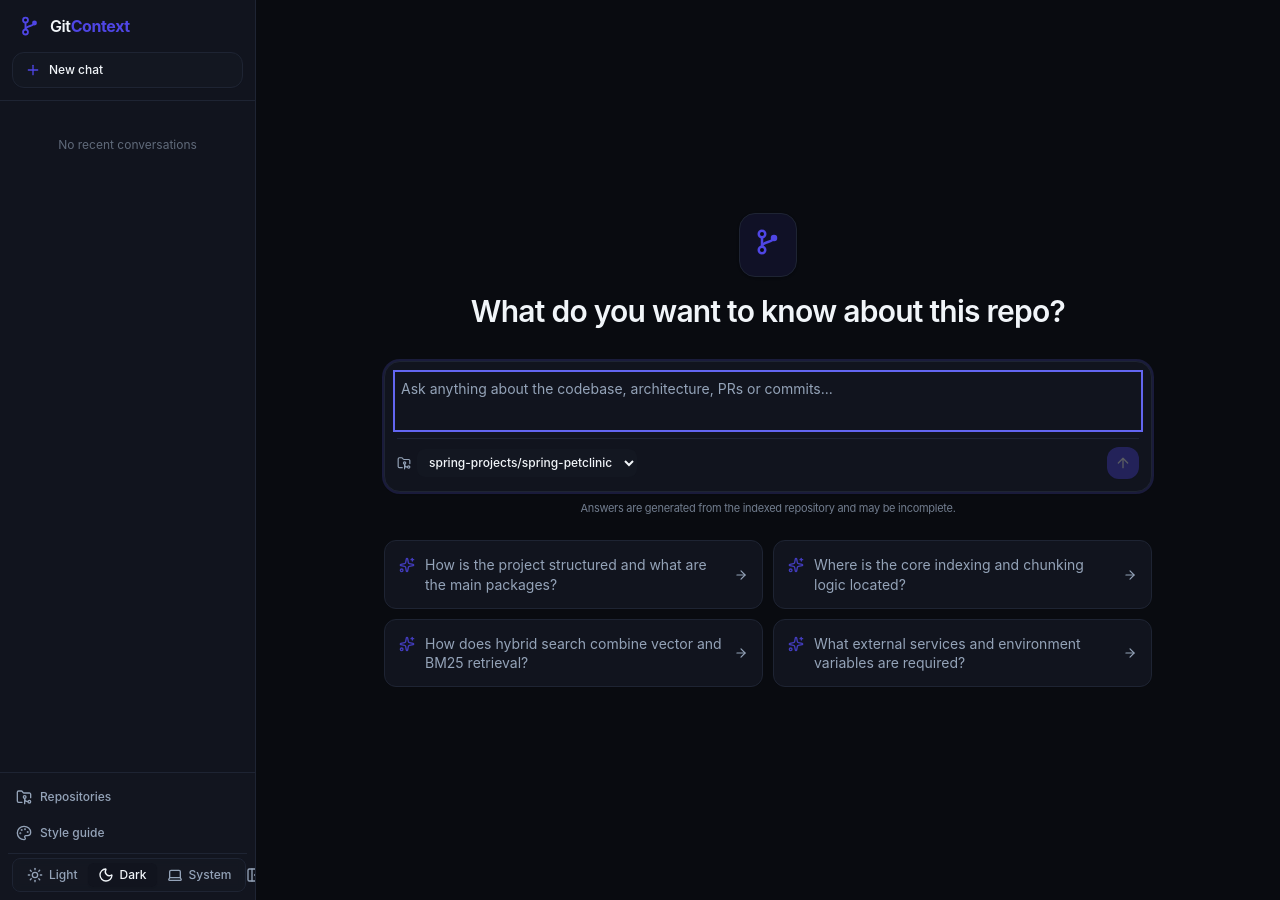
Test: App Component and Navigation › switches to Repositories page and back via sidebar and hash routing
// Click Repositories in sidebar
Click the button "Repositories": (128, 797) [8,781,247,813]
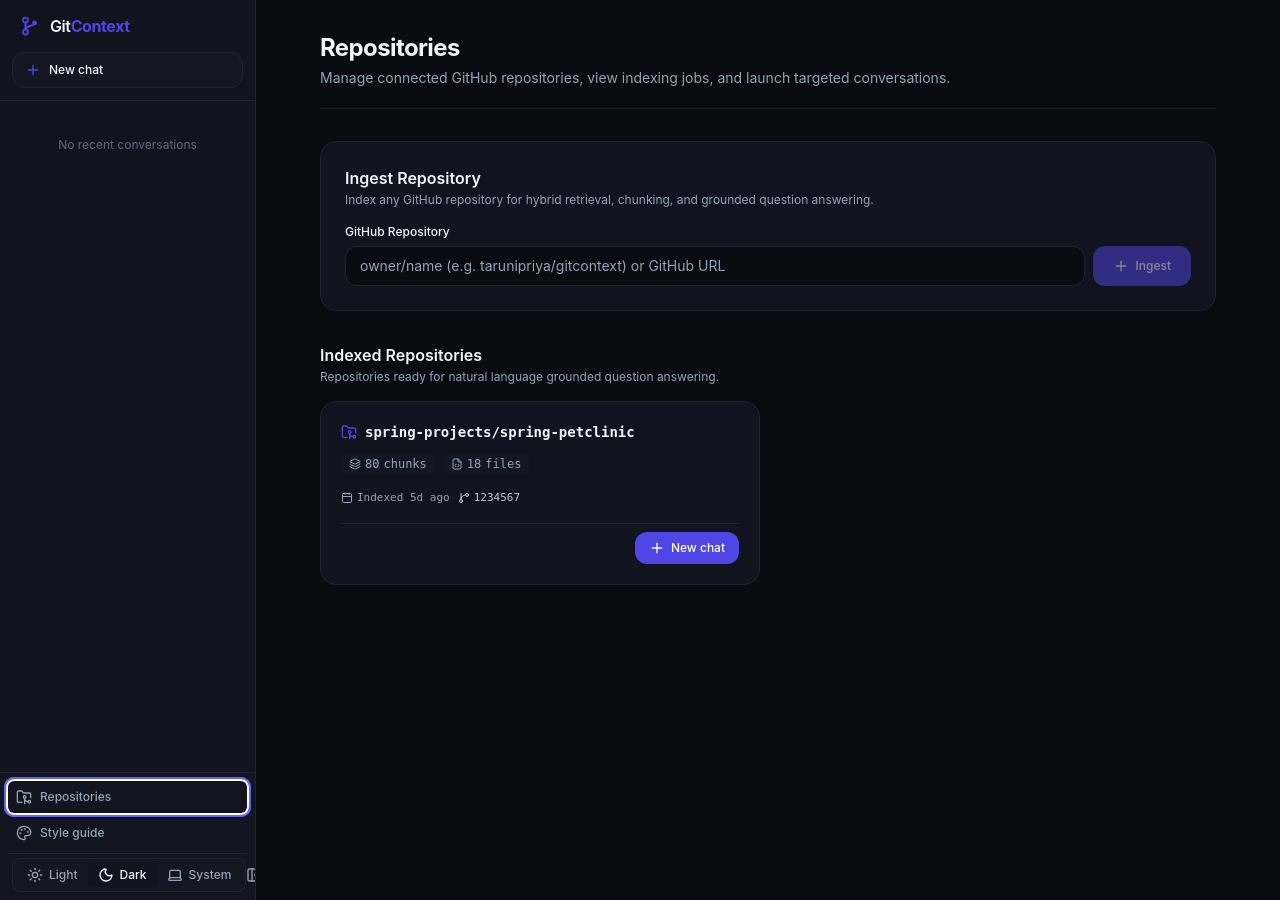
Check: the heading "Ingest Repository" is shown, box [345,168,481,188]
// Click New chat to navigate back
Click the button "New chat" below "Context": (128, 70) [12,52,243,88]
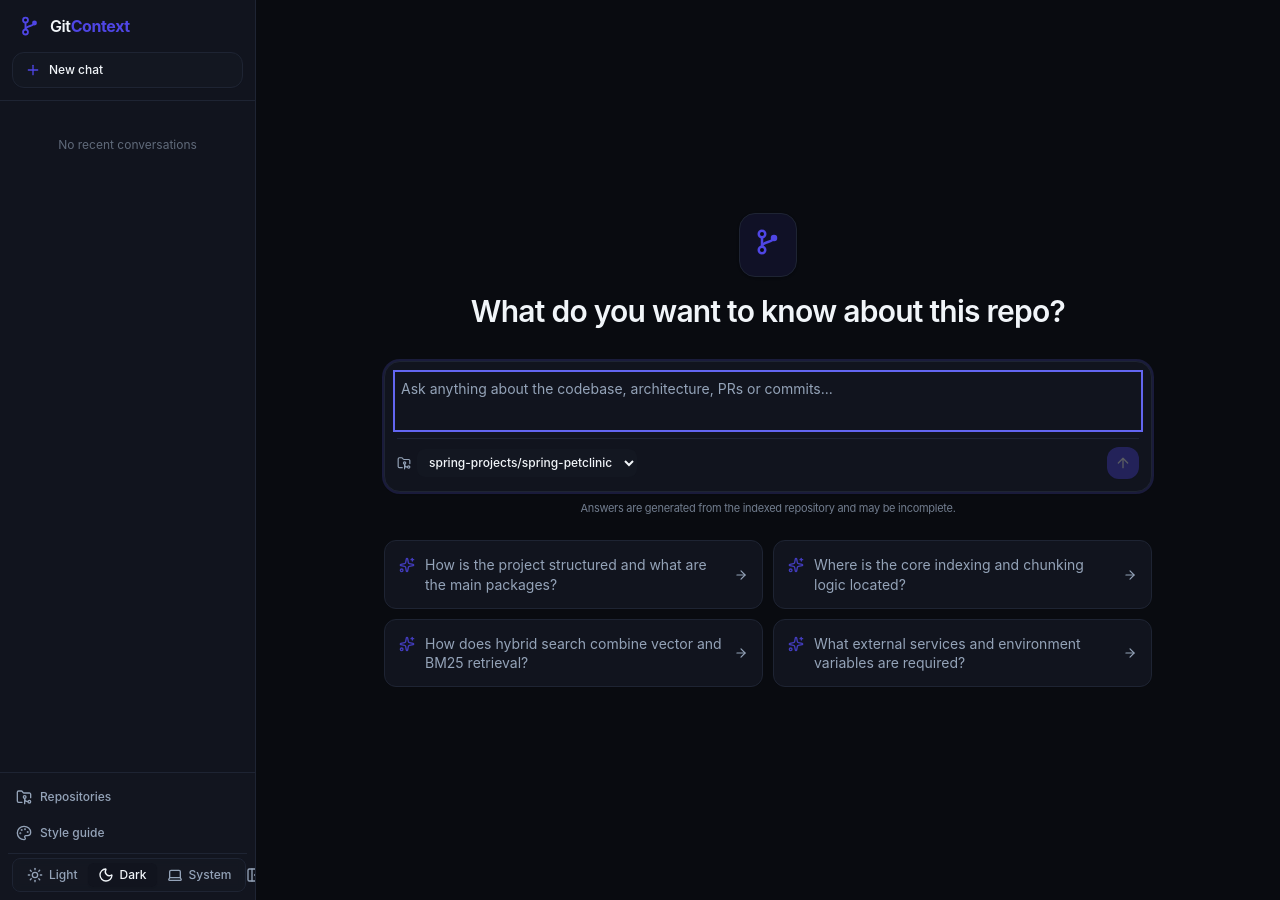
Check: the heading "What do you want to know about this repo?" is shown, box [471,293,1065,329]
